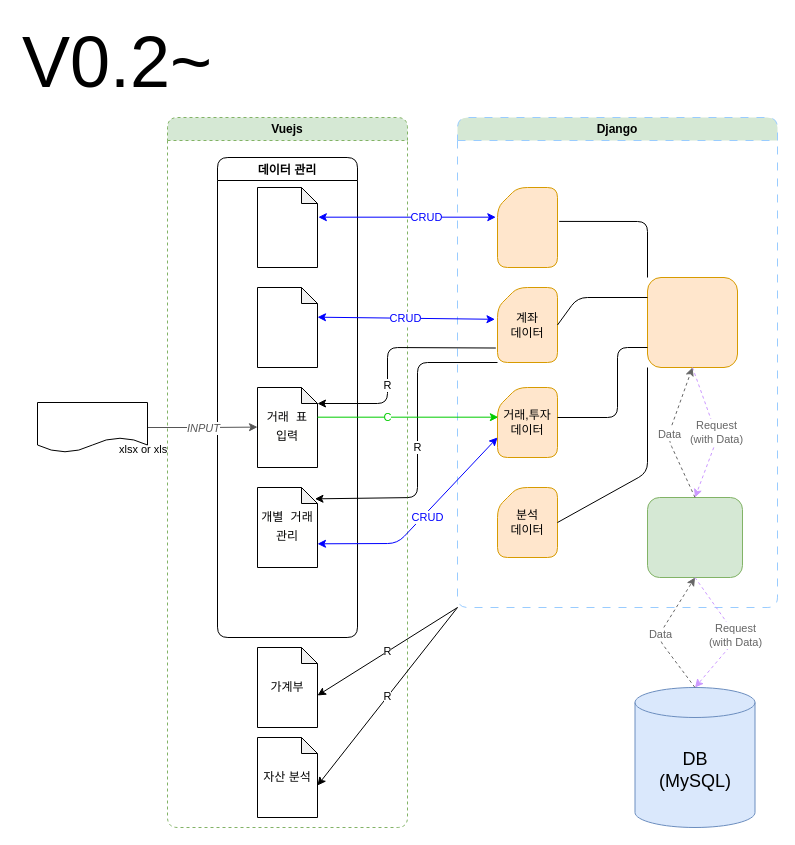
Some shapes in this 795 by 845 pixel diagram are drawn without their labels. The centre of each missing label's shape, as x and y in pixels:
"API (DRF)" goes at pixel 692 322.
"APP" goes at pixel 694 537.
"Xlsx 표파일" goes at pixel 92 427.
"계좌 카드 관리" goes at pixel 287 327.
"기타 데이터" goes at pixel 527 227.
"카테고리 관리" goes at pixel 287 227.
